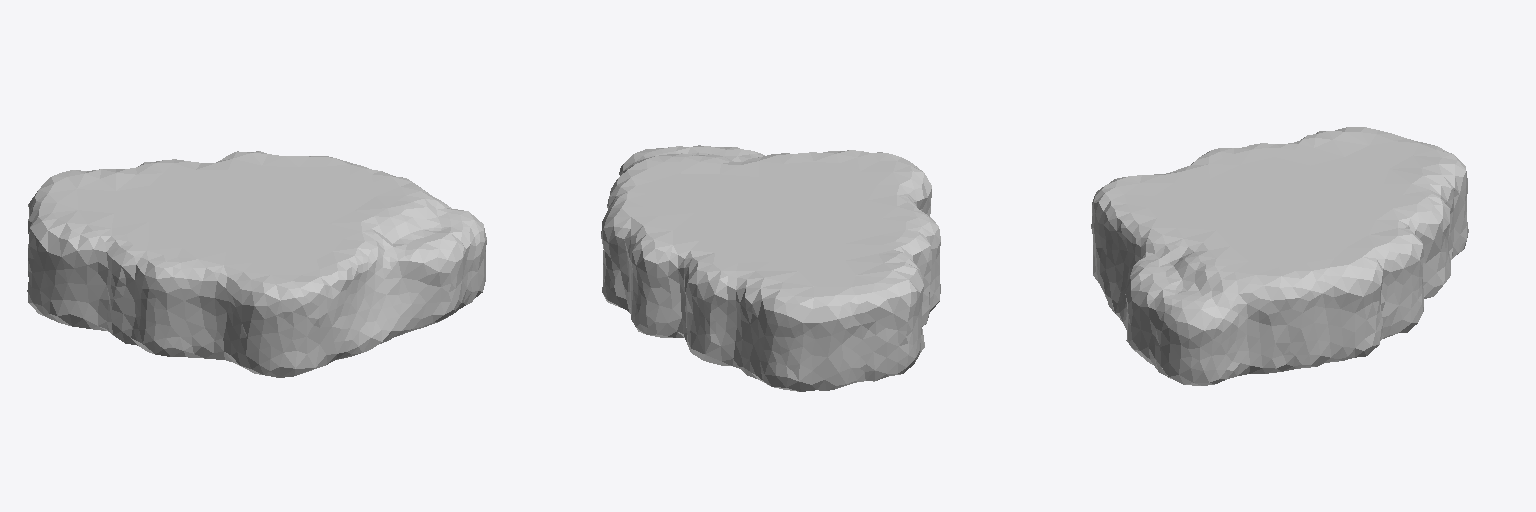
The model's file is CavePlatform2_2.obj.
The picture shows the model from 3 angles: view 1: azimuth 30°, elevation 25°; view 2: azimuth 150°, elevation 25°; view 3: azimuth 270°, elevation 25°; orthographic projection.
Visible parts, largest first — view 1: CavePlatform2-2; view 2: CavePlatform2-2; view 3: CavePlatform2-2.
Part boxes in pixels (left/top/right/bottom): CavePlatform2-2: left=27, top=151, right=486, bottom=377; CavePlatform2-2: left=601, top=145, right=940, bottom=391; CavePlatform2-2: left=1091, top=127, right=1468, bottom=385.
Size of the model in its own units: 47.66 by 11.74 by 42.07.